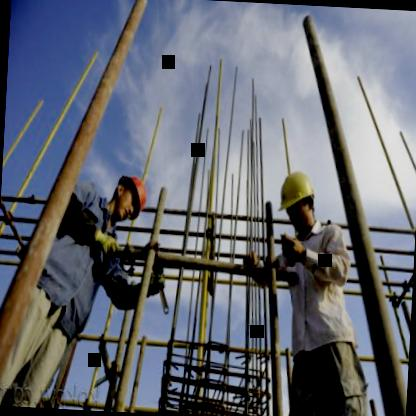helmet: (276, 170, 318, 238), (107, 172, 150, 223)
